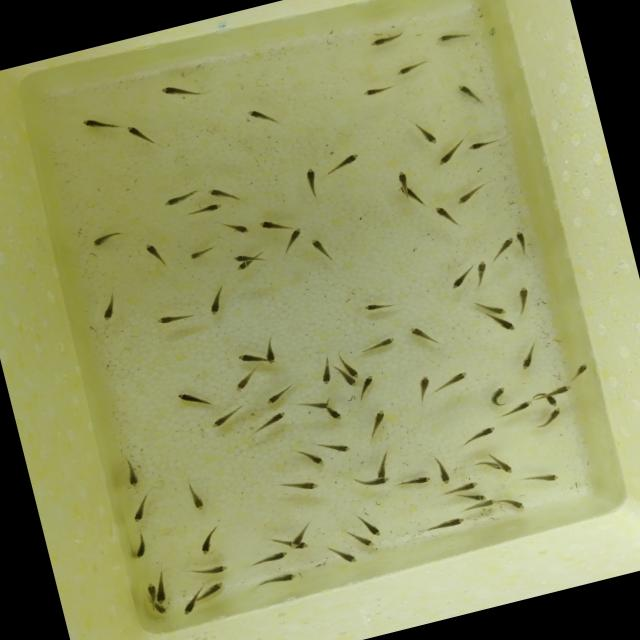fingerling: (227, 364, 270, 394), (244, 100, 284, 132), (256, 209, 300, 238), (173, 385, 215, 415), (80, 108, 126, 135), (141, 236, 173, 274), (250, 567, 300, 591), (275, 473, 321, 499), (158, 77, 202, 104), (454, 78, 486, 114), (207, 402, 248, 430), (185, 558, 232, 582), (408, 319, 443, 351), (432, 368, 474, 394), (154, 304, 196, 330), (124, 120, 158, 152), (432, 138, 468, 168), (518, 466, 562, 490), (320, 152, 360, 178), (432, 24, 477, 47), (359, 294, 402, 318), (194, 524, 226, 556), (94, 290, 125, 323), (410, 116, 440, 150), (161, 187, 204, 210), (486, 232, 520, 261), (366, 26, 408, 49), (126, 492, 156, 524), (262, 381, 300, 406), (88, 226, 131, 248), (359, 80, 404, 101), (472, 294, 508, 320), (182, 478, 208, 514), (185, 198, 227, 220), (364, 407, 391, 441), (318, 434, 356, 458), (531, 404, 566, 430), (276, 226, 306, 256), (514, 340, 544, 370), (497, 397, 536, 420), (431, 200, 459, 232), (368, 446, 396, 478), (294, 443, 326, 471), (250, 410, 290, 432), (358, 334, 398, 356), (327, 540, 358, 568), (314, 352, 338, 388), (392, 57, 433, 78), (439, 477, 482, 497), (205, 178, 238, 204), (454, 180, 488, 205), (218, 216, 252, 241), (446, 264, 476, 292), (308, 234, 336, 264), (391, 471, 433, 491), (294, 394, 332, 416), (423, 514, 464, 534), (462, 424, 499, 446), (203, 286, 230, 316), (510, 284, 537, 314), (248, 549, 290, 568), (128, 530, 154, 560), (412, 373, 436, 405), (300, 166, 322, 200), (347, 528, 375, 554), (489, 312, 518, 337), (454, 488, 490, 508), (564, 360, 594, 384), (234, 348, 266, 370), (403, 183, 428, 211), (186, 243, 222, 262), (498, 491, 526, 515), (466, 134, 503, 152), (472, 256, 494, 286), (120, 458, 142, 488), (485, 383, 510, 409), (432, 455, 452, 486), (355, 372, 379, 397), (463, 497, 498, 513), (512, 227, 532, 255), (260, 334, 278, 364), (359, 474, 391, 490), (362, 518, 384, 539), (201, 579, 227, 596), (394, 167, 412, 188), (326, 406, 346, 424), (496, 456, 514, 476), (551, 382, 573, 398), (144, 580, 158, 602), (346, 362, 362, 380), (180, 602, 198, 616), (286, 535, 302, 550), (544, 395, 560, 409), (234, 260, 251, 272), (154, 590, 168, 604), (231, 252, 247, 264), (344, 376, 359, 388), (155, 604, 169, 616)
